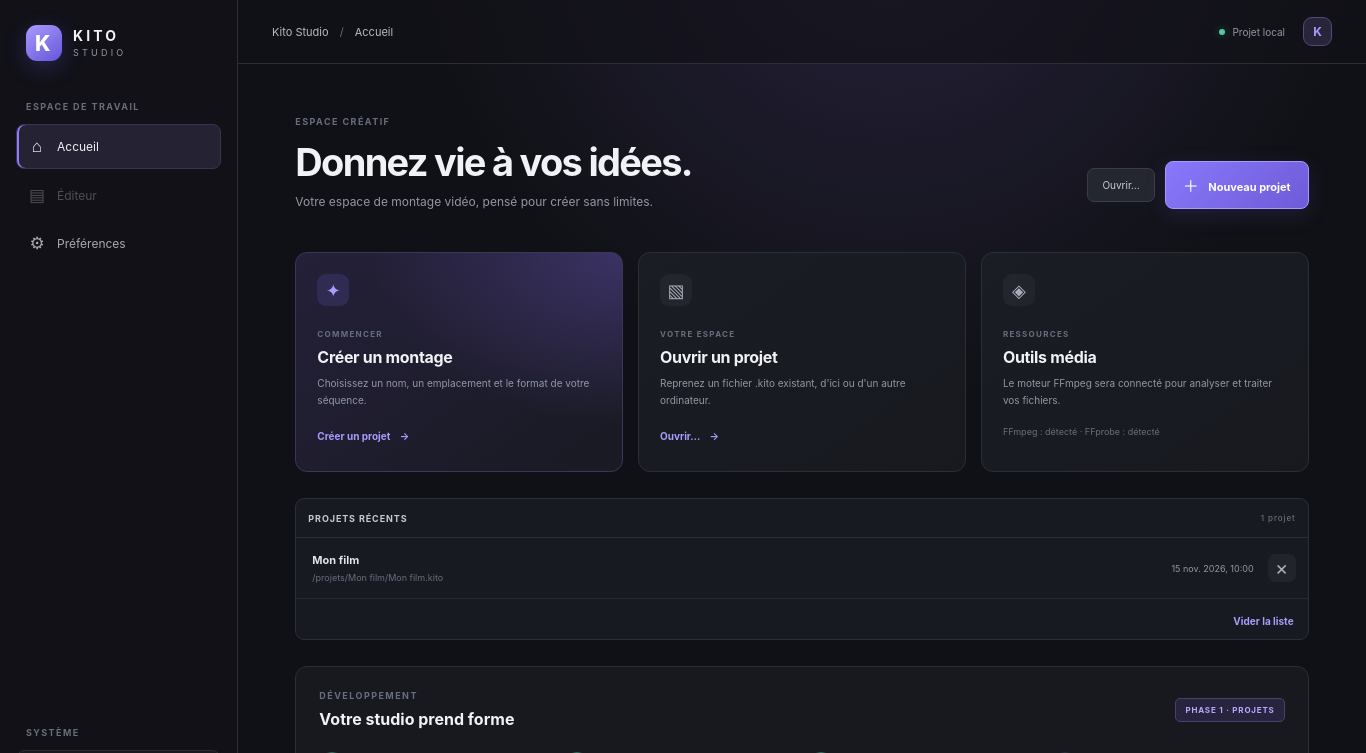
projet qui ne s'ouvre plus › propose la dernière copie automatique quand le fichier est corrompu, et la restaure
Click the text "Mon film" at (336, 560), box [312, 553, 359, 567]
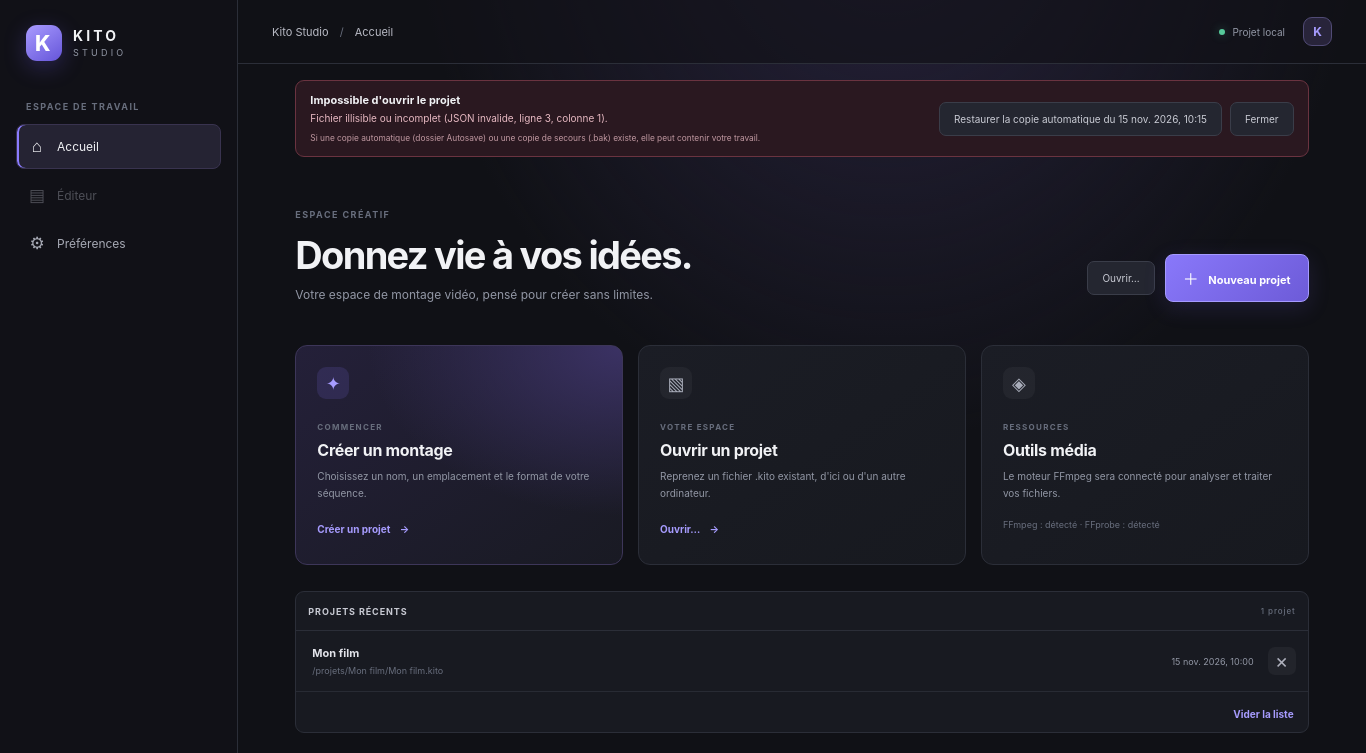
Click the button "Restaurer la copie automatique du 15 nov. 2026, 10:15" at (1080, 119), box [939, 102, 1222, 136]
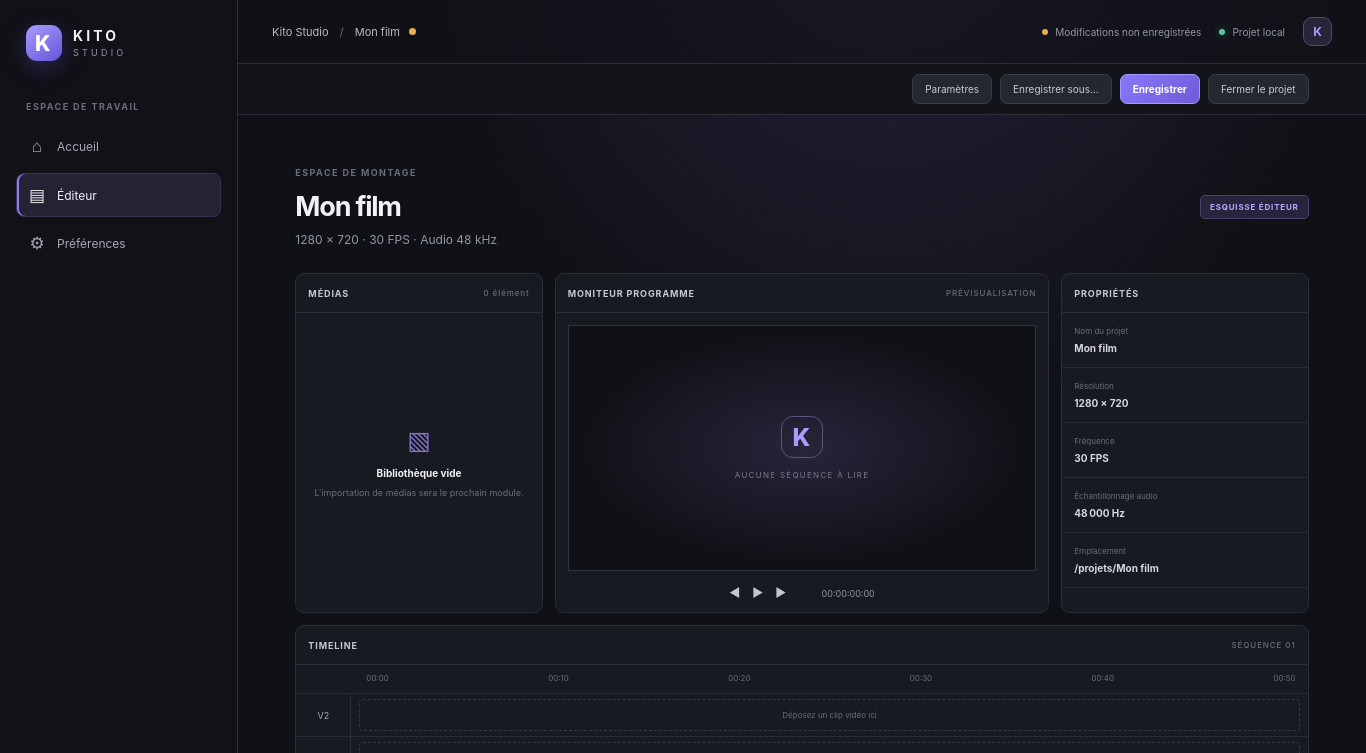
Expected: the text "1280 × 720 · 30 FPS · Audio 48 kHz" is shown, [295, 232, 497, 247]
